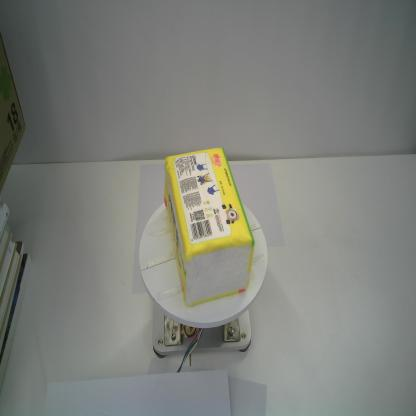Tissue: (162, 145, 255, 307)
